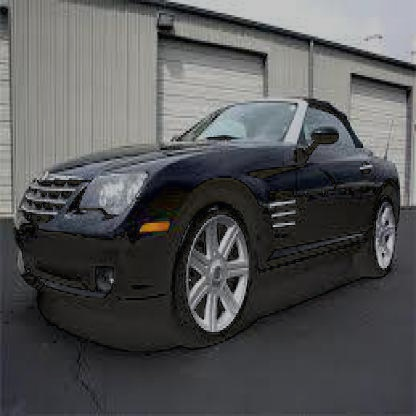Vehicle: (6, 107, 405, 343)
